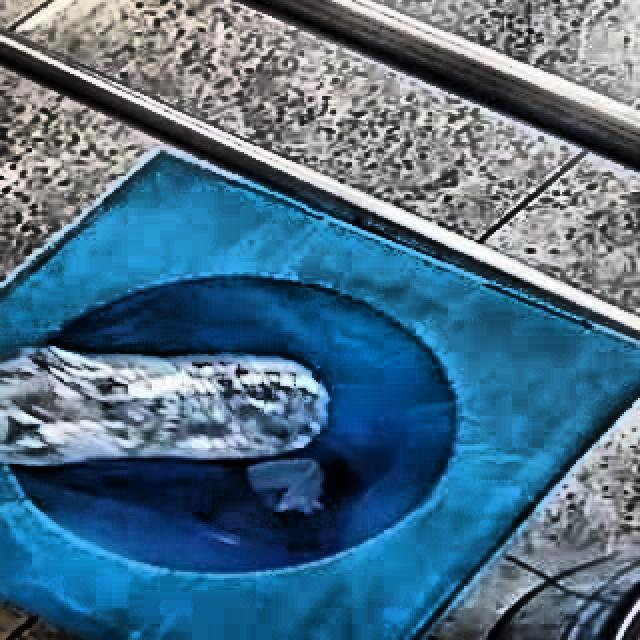plastic: (0, 345, 328, 467)
